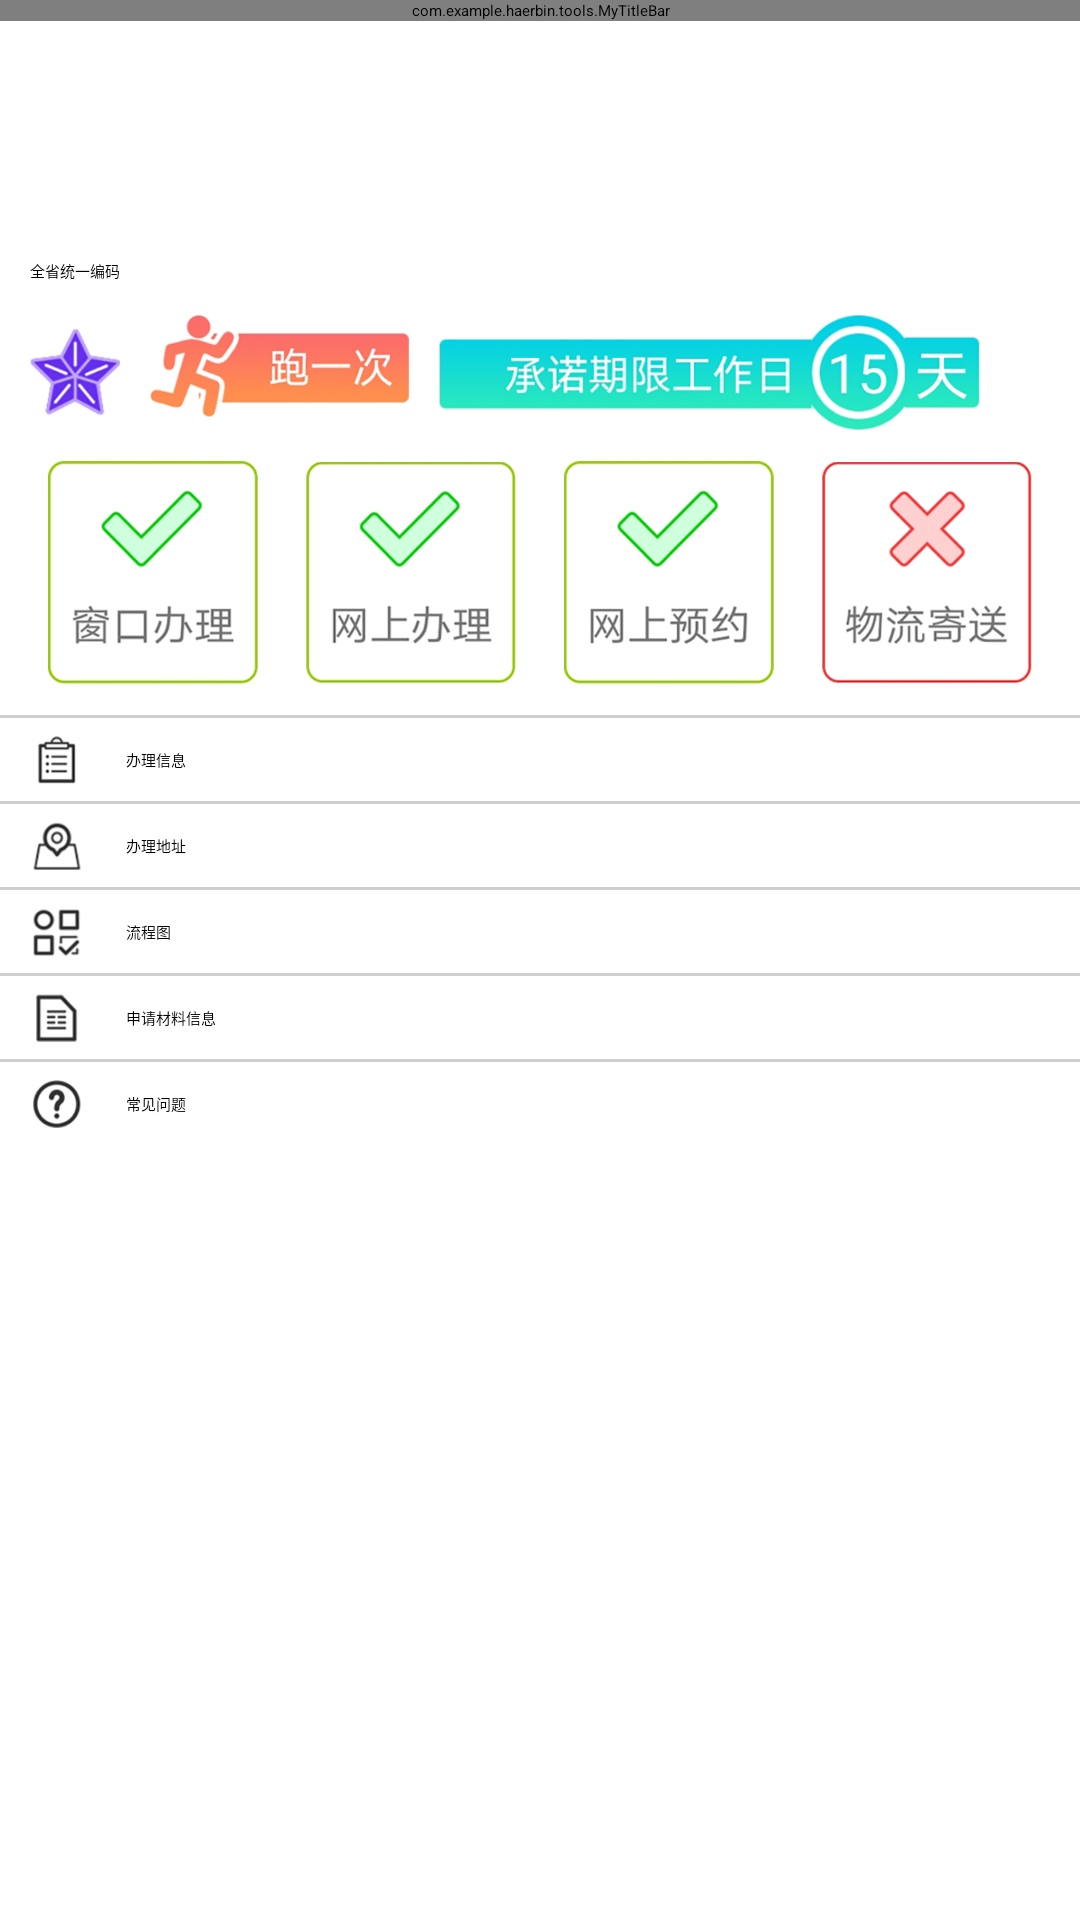

Named icons in this screenshot (1080px×1920px) and their centers, [x,y]:
address: [57,846]
cailiao: [56,1018]
detail info: [57,760]
detail star: [75,372]
what: [57,1104]
